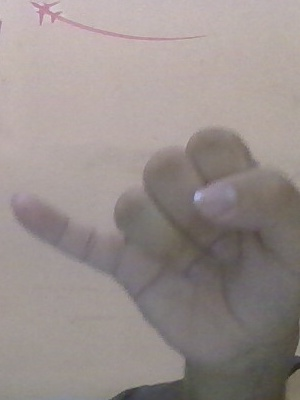J: (9, 97, 300, 388)
